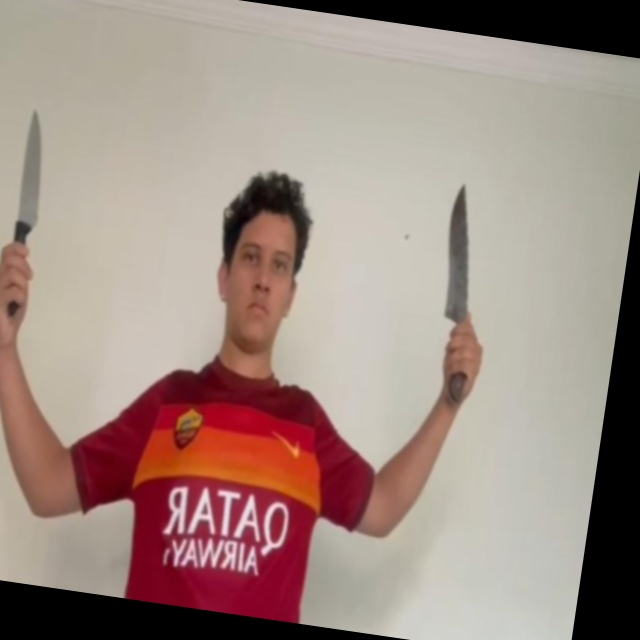Sharp-Object: (15, 109, 54, 228)
